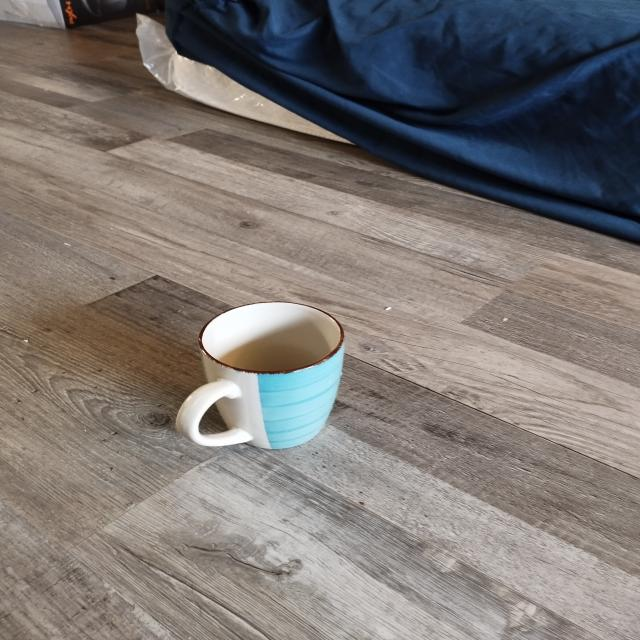Cup: (180, 302, 367, 470)
